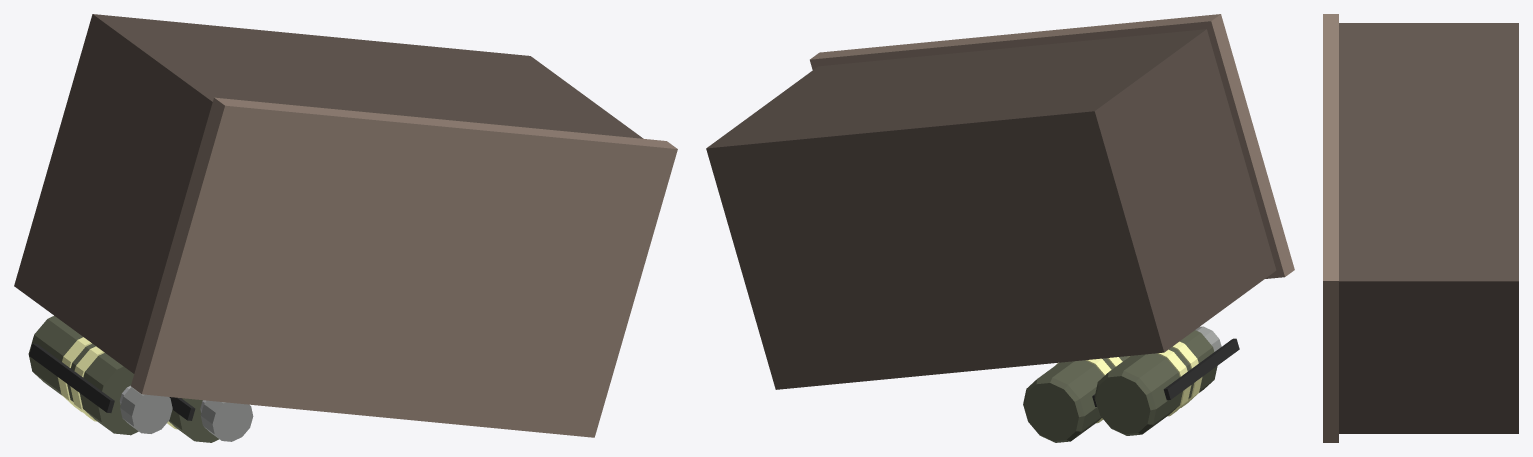
Rendered from ce_handgren_smoke_c.obj.
3 views of the same model, side by side, from view 1: azimuth 30°, elevation 25°; view 2: azimuth 150°, elevation 25°; view 3: azimuth 270°, elevation 25° (orthographic). The views are drawn at different scales.
Visible parts, largest first — view 1: ce_handgren_smoke_c_lid, ce_handgren_smoke_c_crate, ce_handgren_smoke_c_g0_body, ce_handgren_smoke_c_g0_head, ce_handgren_smoke_c_g1_head, ce_handgren_smoke_c_g0_spoon, ce_handgren_smoke_c_g1_body; view 2: ce_handgren_smoke_c_crate, ce_handgren_smoke_c_lid, ce_handgren_smoke_c_g0_body, ce_handgren_smoke_c_g1_body, ce_handgren_smoke_c_g0_spoon; view 3: ce_handgren_smoke_c_crate, ce_handgren_smoke_c_lid.
Part boxes in pixels (x1,y1,x2,y2): ce_handgren_smoke_c_lid: [131, 97, 677, 437]; ce_handgren_smoke_c_crate: [14, 14, 643, 373]; ce_handgren_smoke_c_g0_body: [28, 315, 138, 435]; ce_handgren_smoke_c_g0_head: [120, 387, 172, 433]; ce_handgren_smoke_c_g1_head: [200, 400, 253, 441]; ce_handgren_smoke_c_g0_spoon: [29, 343, 114, 412]; ce_handgren_smoke_c_g1_body: [169, 398, 218, 442]; ce_handgren_smoke_c_crate: [706, 29, 1276, 389]; ce_handgren_smoke_c_lid: [810, 14, 1294, 278]; ce_handgren_smoke_c_g0_body: [1094, 330, 1217, 435]; ce_handgren_smoke_c_g1_body: [1023, 356, 1128, 442]; ce_handgren_smoke_c_g0_spoon: [1163, 338, 1239, 400]; ce_handgren_smoke_c_crate: [1339, 23, 1518, 433]; ce_handgren_smoke_c_lid: [1323, 14, 1338, 442].
Bounding box in the file's own units: 0.5568 × 0.4191 × 0.2474.
